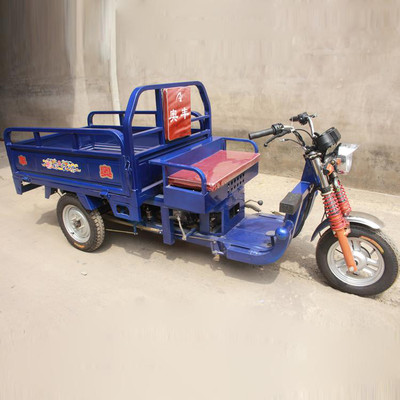tricycle: (13, 59, 399, 297)
